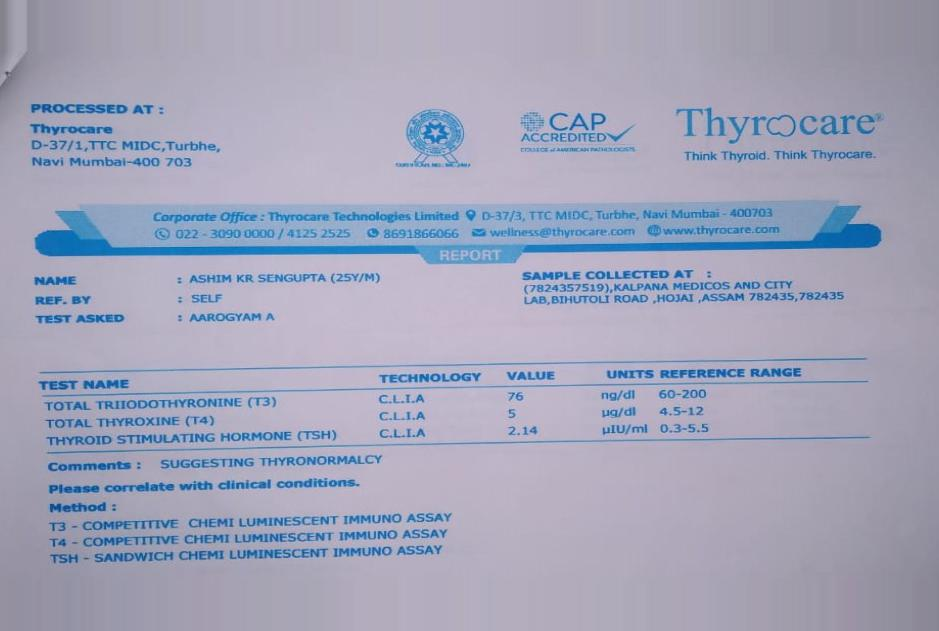Reference Range: (651, 382, 717, 440)
Test Name: (35, 391, 346, 452)
Units: (595, 384, 653, 443)
Value: (498, 385, 550, 444)
